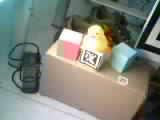duck: (76, 21, 110, 61)
